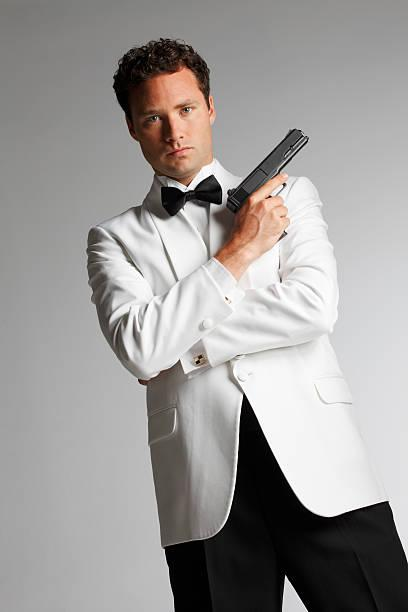weapon: (225, 121, 310, 229)
